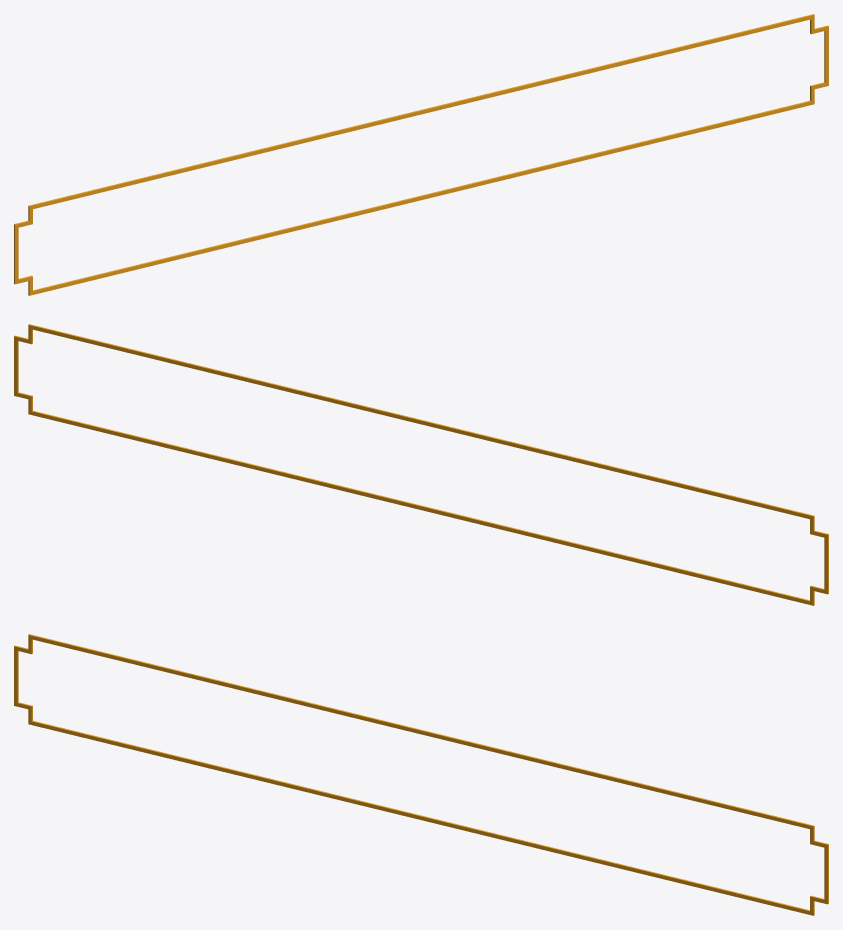
The model's file is dengkuang.fbx.
The picture shows the model from 3 angles, top to bottom: view 1: azimuth 30°, elevation 25°; view 2: azimuth 150°, elevation 25°; view 3: azimuth 330°, elevation 25°; orthographic projection.
Visible parts, largest first — view 1: fangkuang; view 2: fangkuang; view 3: fangkuang.
Part boxes in pixels (left/top/right/bottom): fangkuang: left=14, top=14, right=828, bottom=295; fangkuang: left=14, top=324, right=828, bottom=605; fangkuang: left=14, top=634, right=828, bottom=915.
Size of the model in its own units: 2285 by 240 by 5.
